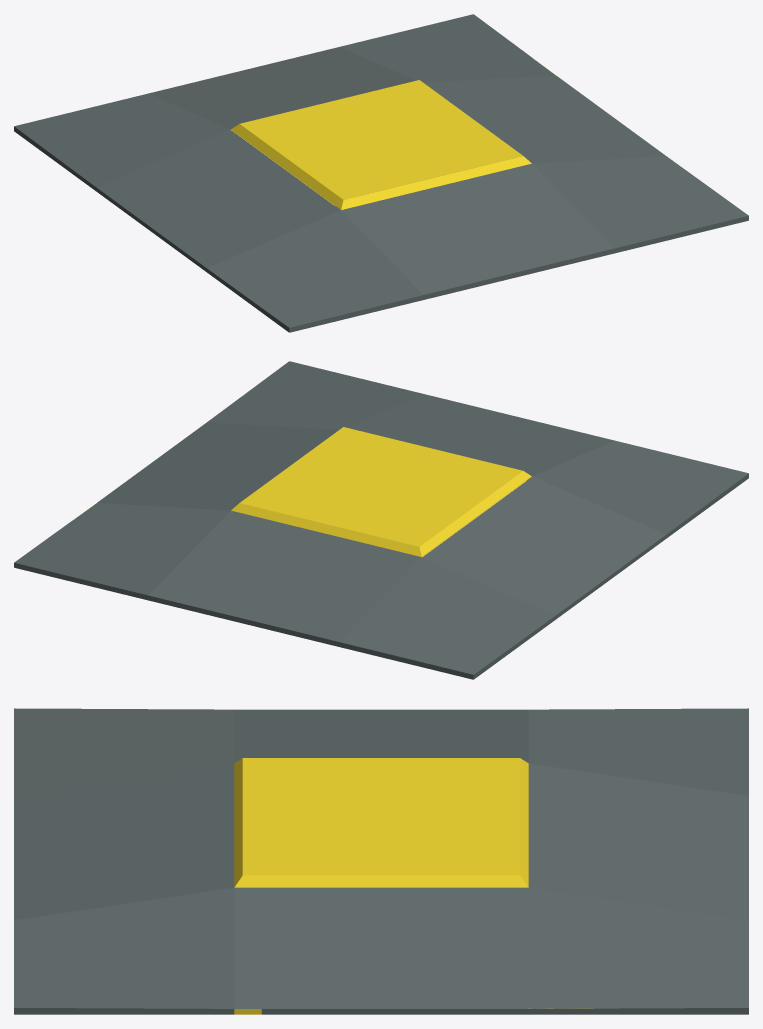
The model's file is PressurePlate.fbx.
3 views of the same model, one above another, from view 1: azimuth 30°, elevation 25°; view 2: azimuth 150°, elevation 25°; view 3: azimuth 270°, elevation 25° (orthographic). The views are drawn at different scales.
Parts seen in each view (by area): view 1: Cube; view 2: Cube; view 3: Cube.
Part boxes in pixels (box(x1,y1,x2,y2)): Cube: box(14, 14, 748, 332); Cube: box(14, 361, 748, 679); Cube: box(14, 708, 748, 1014).
Size of the model in its own units: 305 by 22.87 by 316.
